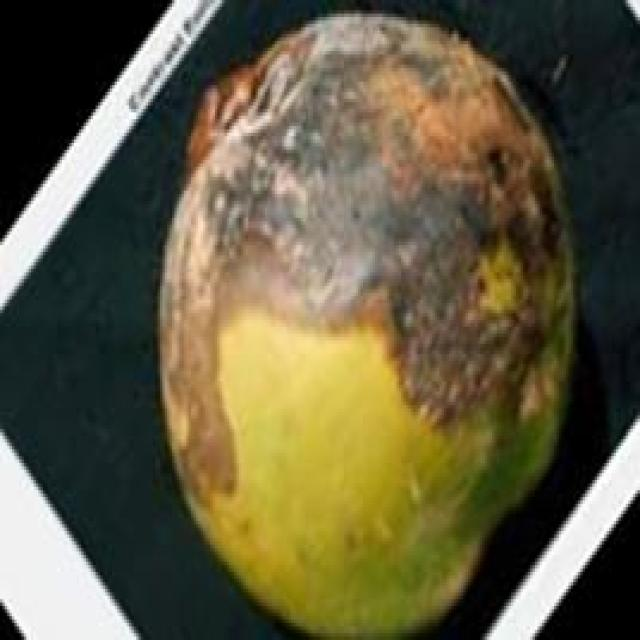damaged: (155, 14, 583, 637)
